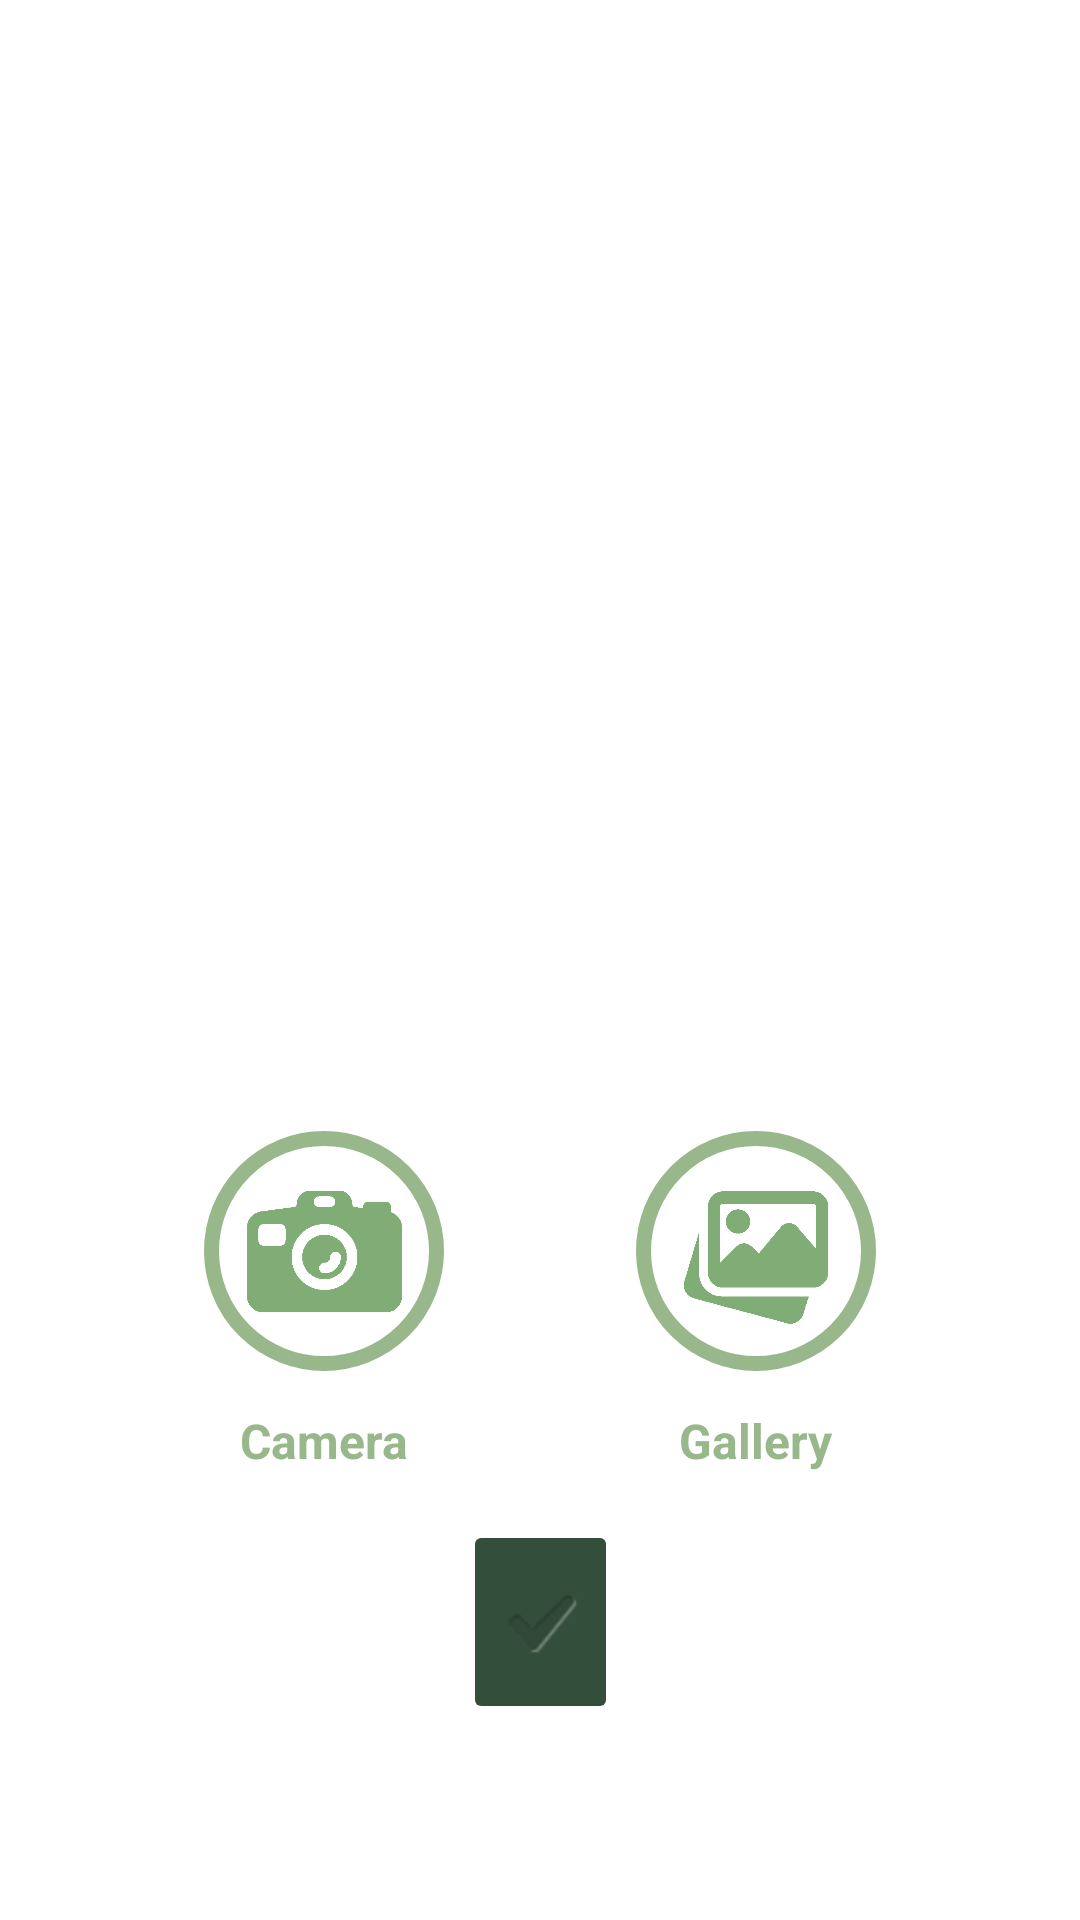

Icons on this 1080 × 1920 Android screen, each with the point to tap as (x=x, y=y):
cam: (x=324, y=1251)
